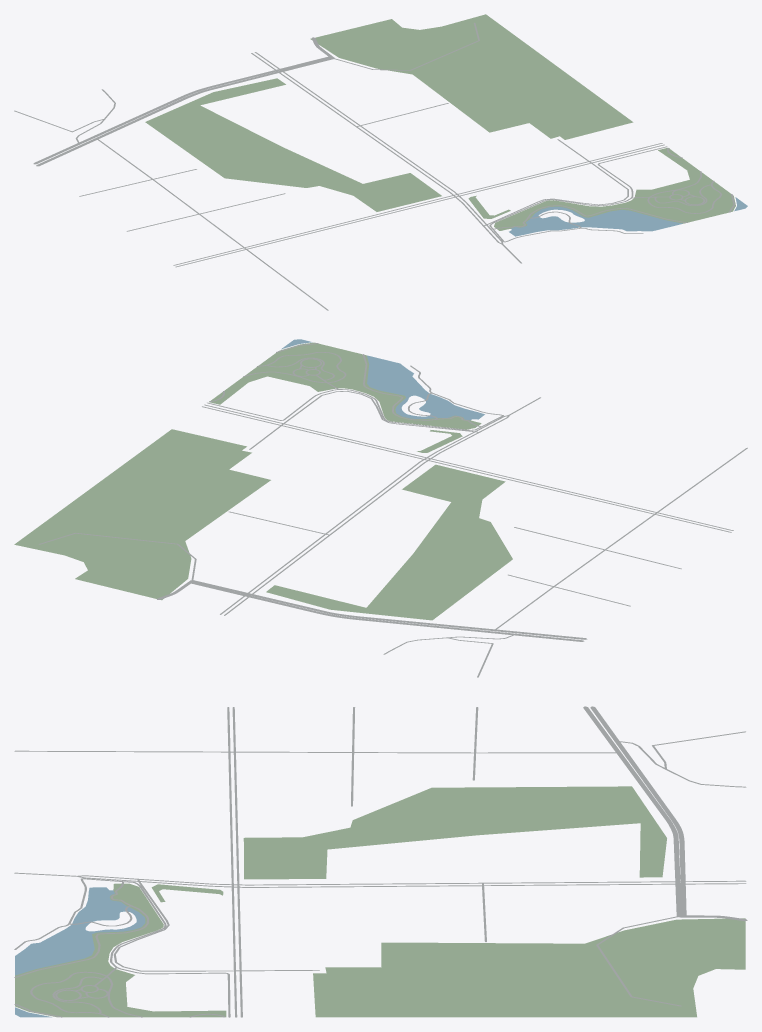
File: -17_31-known-coarse.glb
The picture shows the model from 3 angles, top to bottom: view 1: azimuth 30°, elevation 25°; view 2: azimuth 150°, elevation 25°; view 3: azimuth 270°, elevation 25°; orthographic projection. The views are drawn at different scales.
Bounding box in the file's own units: 1003 × 0.1 × 1000.
